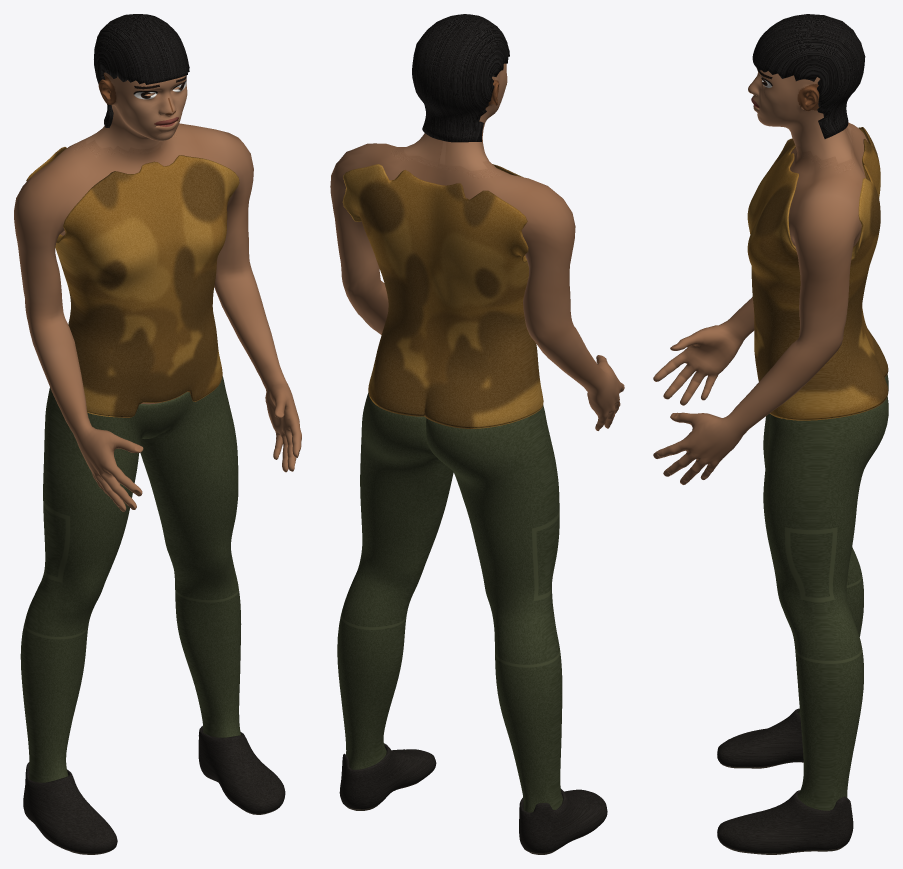
File: charB.glb
3 views of the same model, side by side, from view 1: azimuth 30°, elevation 25°; view 2: azimuth 150°, elevation 25°; view 3: azimuth 270°, elevation 25° (orthographic). The views are drawn at different scales.
Visible parts, largest first — view 1: pants, shirt, Human, shoes, hair; view 2: pants, shirt, Human, hair, shoes; view 3: pants, Human, shirt, shoes, hair.
Part boxes in pixels (left/top/right/bottom): pants: left=20, top=376, right=241, bottom=782; shirt: left=26, top=147, right=239, bottom=417; Human: left=14, top=72, right=301, bottom=511; shoes: left=23, top=726, right=285, bottom=854; hair: left=94, top=14, right=189, bottom=127; pants: left=337, top=392, right=562, bottom=812; shirt: left=342, top=164, right=543, bottom=428; Human: left=330, top=63, right=624, bottom=430; hair: left=412, top=14, right=509, bottom=142; shoes: left=339, top=743, right=607, bottom=854; pants: left=763, top=374, right=888, bottom=810; Human: left=653, top=68, right=867, bottom=484; shirt: left=747, top=127, right=888, bottom=420; shoes: left=717, top=708, right=853, bottom=854; hair: left=752, top=14, right=865, bottom=138.
Bounding box in the file's own units: 0.5189 × 1.68 × 0.456.
5 materials, 5 textured.
